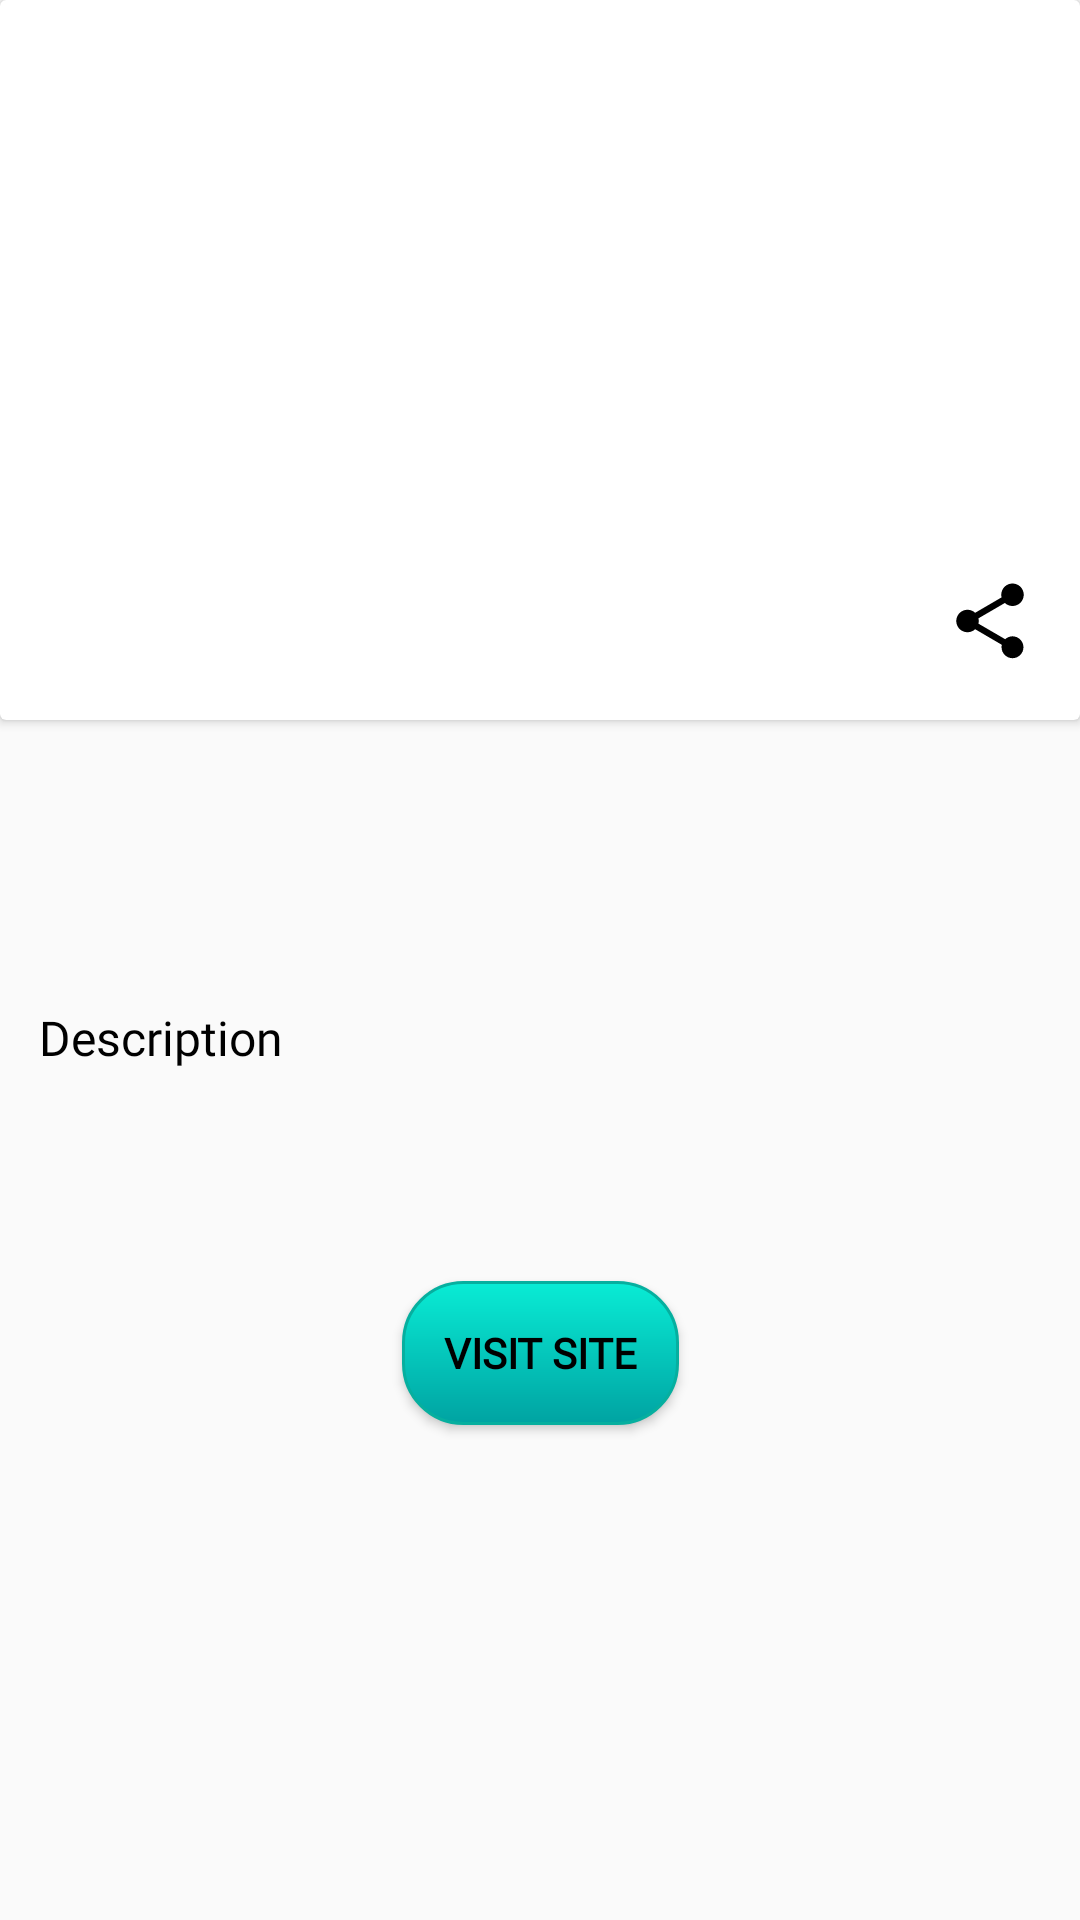

Icons on this 1080*1920 Android screen, each with its box as (x1, y1, x2, y2):
share: (956, 583, 1024, 659)
